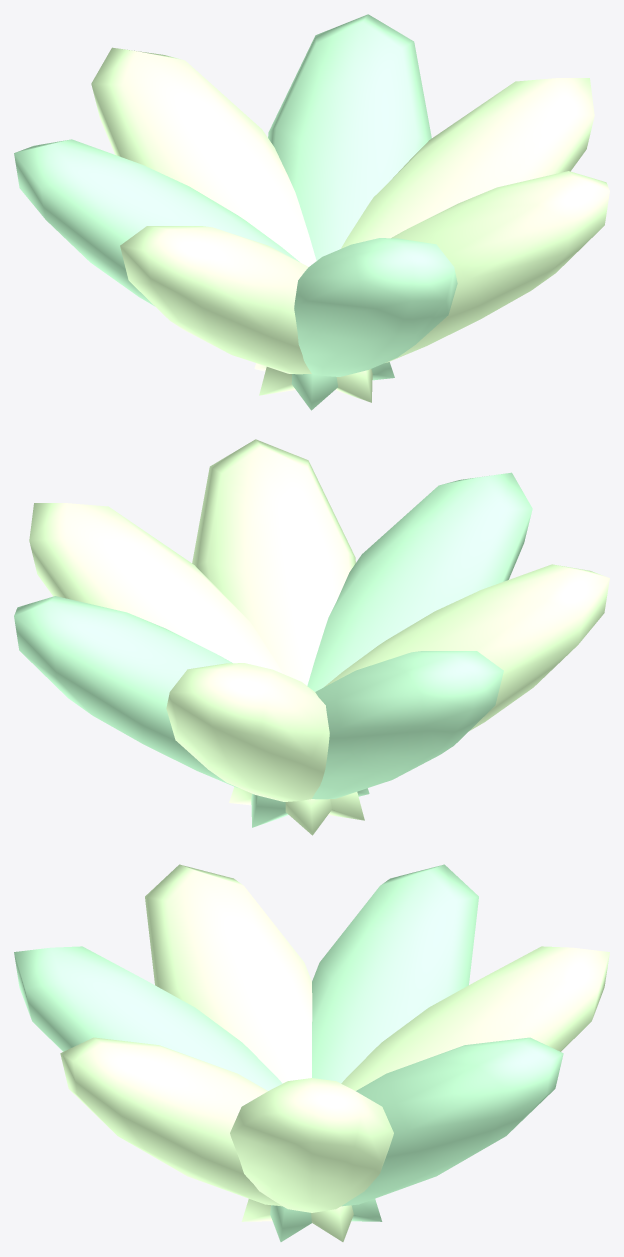
File: fern.glb
3 views of the same model, one above another, from view 1: azimuth 30°, elevation 25°; view 2: azimuth 150°, elevation 25°; view 3: azimuth 270°, elevation 25° (orthographic).
Parts seen in each view (by area): view 1: fern; view 2: fern; view 3: fern.
Boxes of the visible parts, x1,y1,x2,y2 form: fern: (14, 14, 609, 410); fern: (14, 439, 609, 835); fern: (14, 864, 609, 1241).
Bounding box in the file's own units: 0.9149 × 0.4264 × 0.9375.
